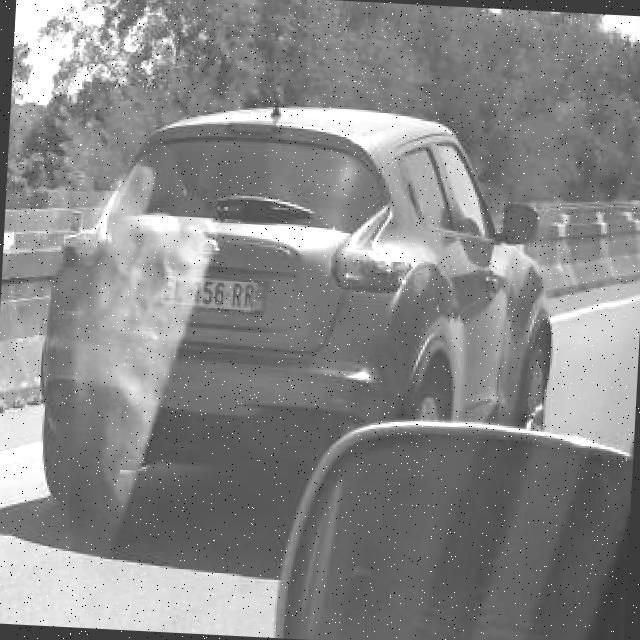Autre: (132, 264, 270, 316)
